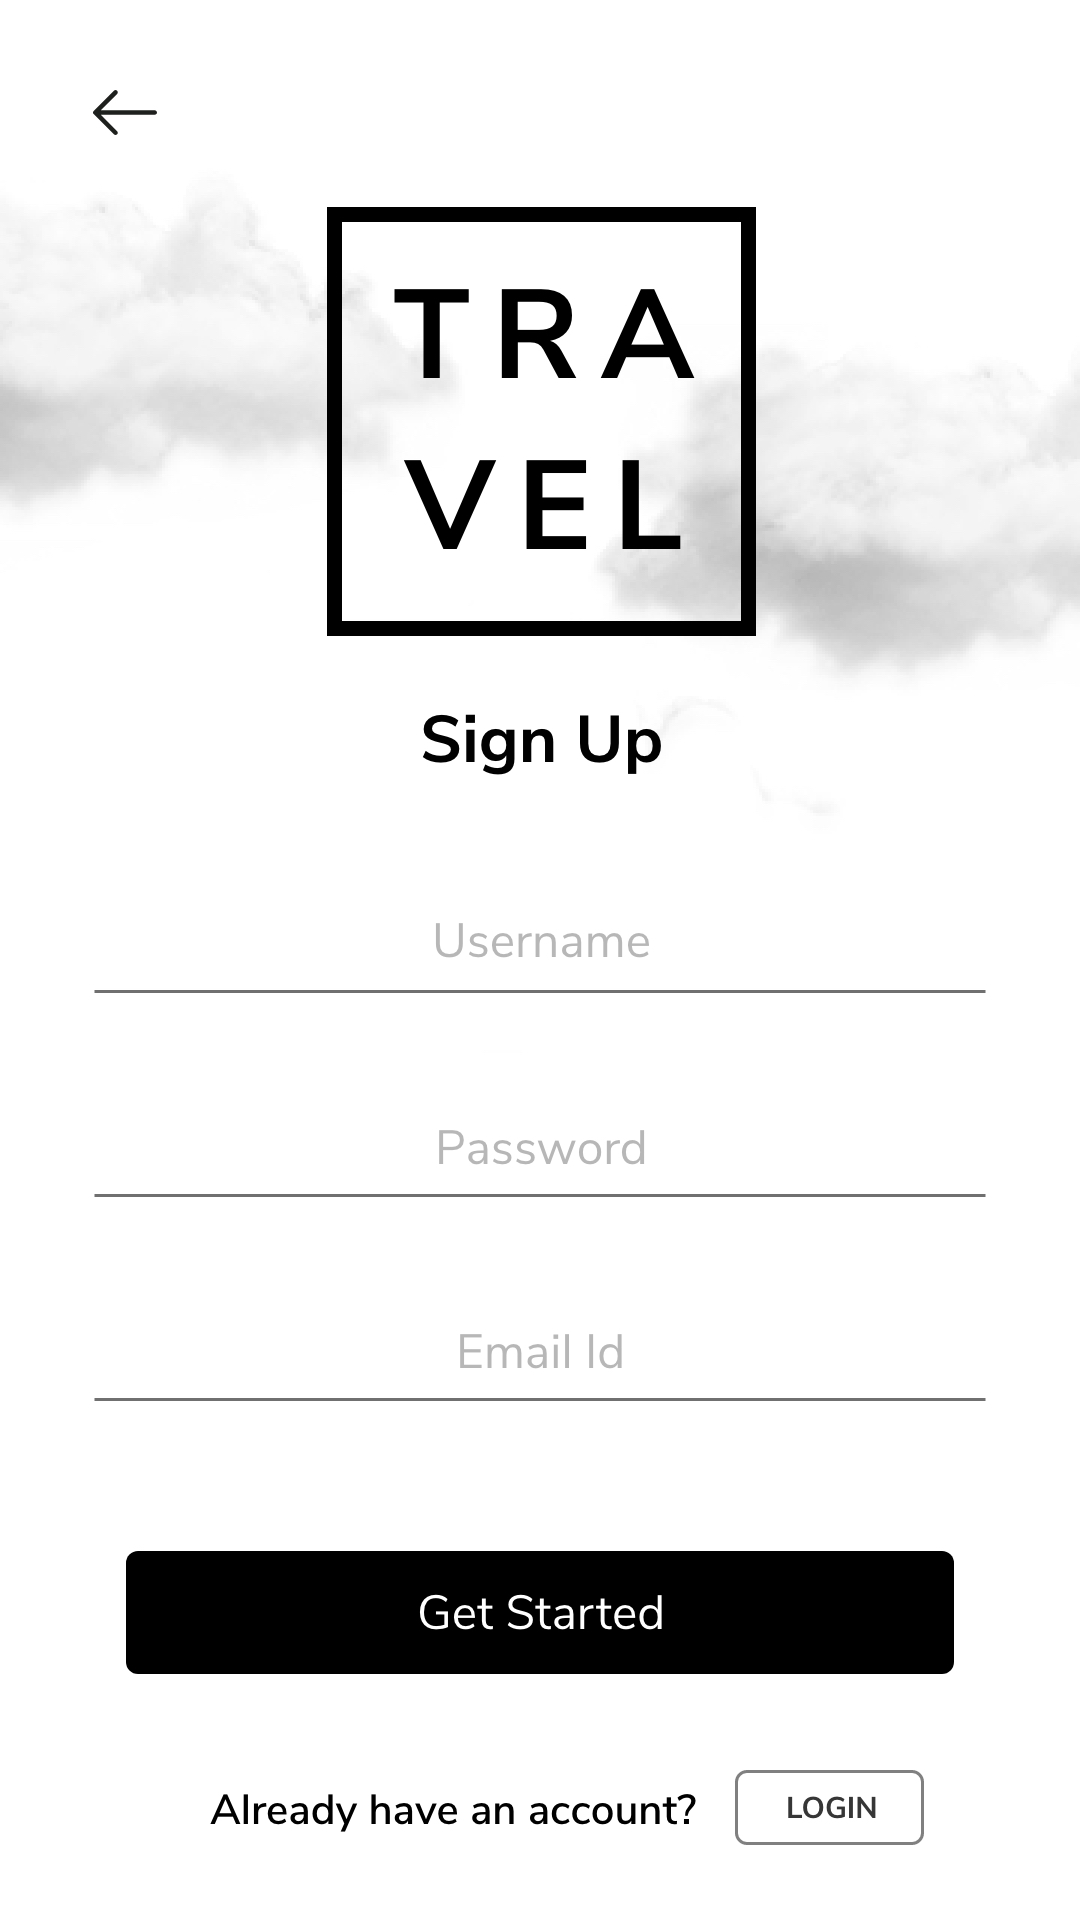EditText: (94, 922, 986, 994), (94, 1333, 986, 1402), (94, 1129, 986, 1197)
Icon: (94, 90, 158, 137)
Image: (327, 207, 757, 637)
Text: (210, 1793, 698, 1833), (423, 713, 663, 775), (436, 922, 650, 959), (438, 1129, 645, 1166), (460, 1333, 622, 1370)
TextButton: (127, 1551, 955, 1675), (735, 1768, 924, 1846)
